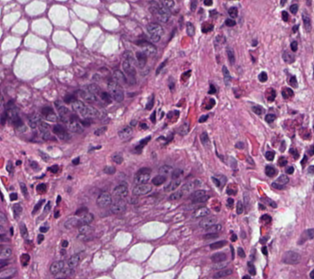nucleus: (71, 100, 98, 117), (107, 79, 123, 101), (55, 101, 71, 123), (122, 58, 135, 83), (136, 40, 156, 56), (181, 179, 201, 194), (67, 114, 83, 132), (78, 89, 98, 103), (52, 125, 69, 140), (134, 168, 150, 183), (110, 198, 126, 213), (136, 136, 150, 152), (78, 224, 92, 240), (199, 215, 216, 228), (133, 183, 151, 195), (97, 192, 111, 207), (50, 260, 64, 275), (272, 175, 288, 188), (164, 178, 180, 191), (118, 126, 132, 140), (113, 184, 127, 198), (112, 70, 127, 83), (86, 84, 101, 97), (28, 113, 41, 128), (64, 217, 81, 228), (56, 266, 73, 277), (5, 106, 18, 120), (67, 254, 80, 268), (213, 268, 232, 277), (178, 120, 189, 135), (193, 207, 209, 217), (79, 212, 93, 223), (209, 240, 226, 249), (136, 52, 146, 67), (190, 190, 205, 200), (211, 252, 226, 262), (0, 268, 15, 278), (222, 66, 230, 84), (99, 91, 111, 103), (205, 223, 221, 232), (152, 174, 165, 185), (32, 200, 43, 213), (156, 59, 166, 73), (158, 165, 172, 175), (168, 190, 182, 200), (226, 47, 234, 64), (200, 131, 209, 146), (12, 117, 23, 128), (265, 165, 276, 176), (0, 247, 11, 258), (193, 194, 208, 202), (266, 88, 275, 101), (13, 203, 21, 217), (123, 51, 134, 61), (111, 153, 122, 163), (211, 176, 221, 187), (94, 126, 106, 135), (20, 223, 27, 238), (38, 121, 48, 131), (39, 151, 49, 161), (36, 183, 46, 193), (64, 94, 75, 103), (41, 106, 52, 115), (171, 169, 182, 178), (20, 183, 27, 197), (103, 166, 115, 174), (146, 96, 153, 109), (252, 105, 262, 114), (203, 232, 218, 238), (45, 113, 56, 121), (75, 207, 86, 215), (21, 254, 29, 265), (236, 201, 243, 213), (248, 262, 255, 274), (261, 214, 270, 223), (265, 114, 275, 122), (258, 72, 266, 81), (81, 118, 90, 126), (265, 151, 273, 160), (278, 157, 286, 166), (237, 247, 244, 257), (44, 202, 50, 213), (208, 84, 215, 93), (49, 165, 58, 172), (6, 162, 12, 172), (199, 115, 207, 122), (30, 161, 38, 168), (1, 113, 6, 124), (0, 213, 5, 224), (227, 198, 233, 207), (39, 226, 48, 232), (37, 234, 43, 243), (150, 112, 155, 122), (61, 240, 68, 247), (235, 142, 243, 148), (227, 188, 235, 194), (0, 259, 6, 267), (10, 193, 16, 200), (72, 158, 78, 164), (262, 247, 267, 254), (231, 234, 236, 240), (140, 124, 146, 128), (54, 211, 58, 217), (252, 40, 256, 45), (259, 204, 264, 208), (57, 196, 60, 202), (243, 275, 249, 278), (16, 160, 20, 164), (10, 228, 12, 234)
